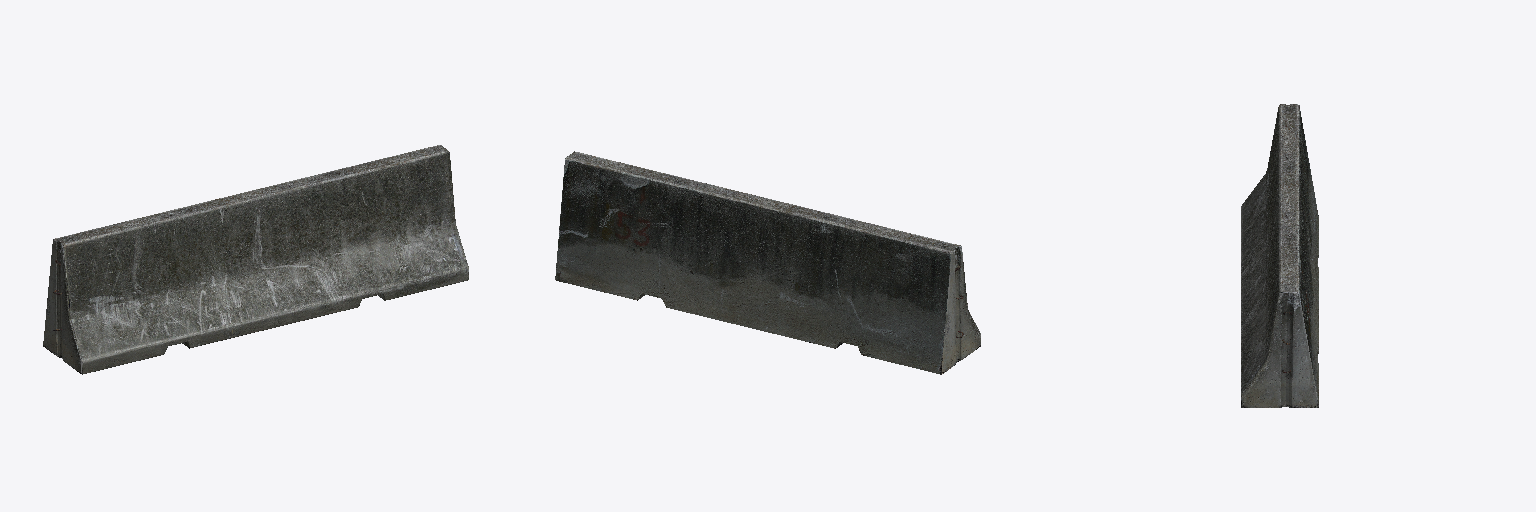
The picture shows the model from 3 angles: view 1: azimuth 30°, elevation 25°; view 2: azimuth 150°, elevation 25°; view 3: azimuth 270°, elevation 25°; orthographic projection.
Parts seen in each view (by area): view 1: mmGroup0; view 2: mmGroup0; view 3: mmGroup0.
Boxes of the visible parts, box(x1,y1,x2,y2) form: mmGroup0: box(43, 145, 468, 374); mmGroup0: box(555, 151, 980, 374); mmGroup0: box(1241, 104, 1318, 407).
Bounding box in the file's own units: 2.88 × 0.8 × 0.4903.
1 materials, 1 textured.